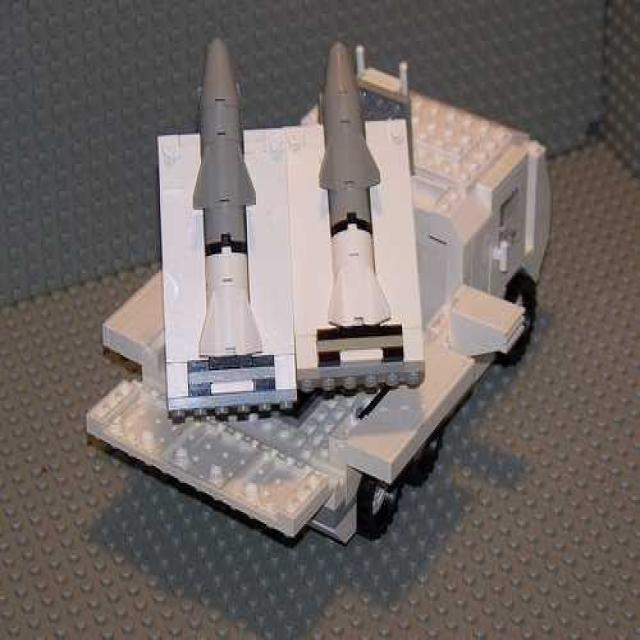missile: (306, 39, 400, 338), (191, 23, 271, 374)
